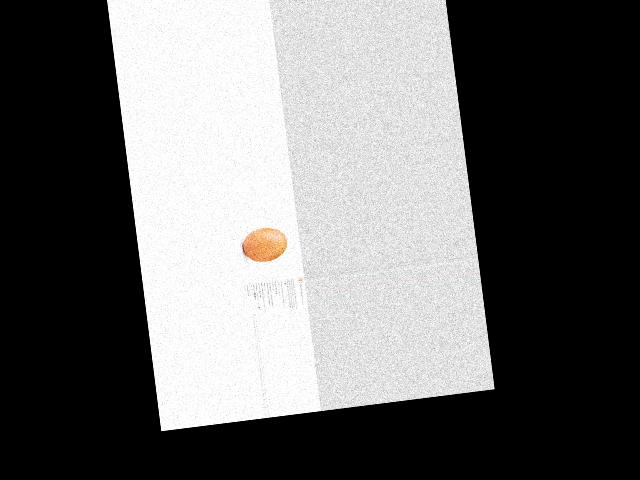egg: (241, 225, 289, 264)
